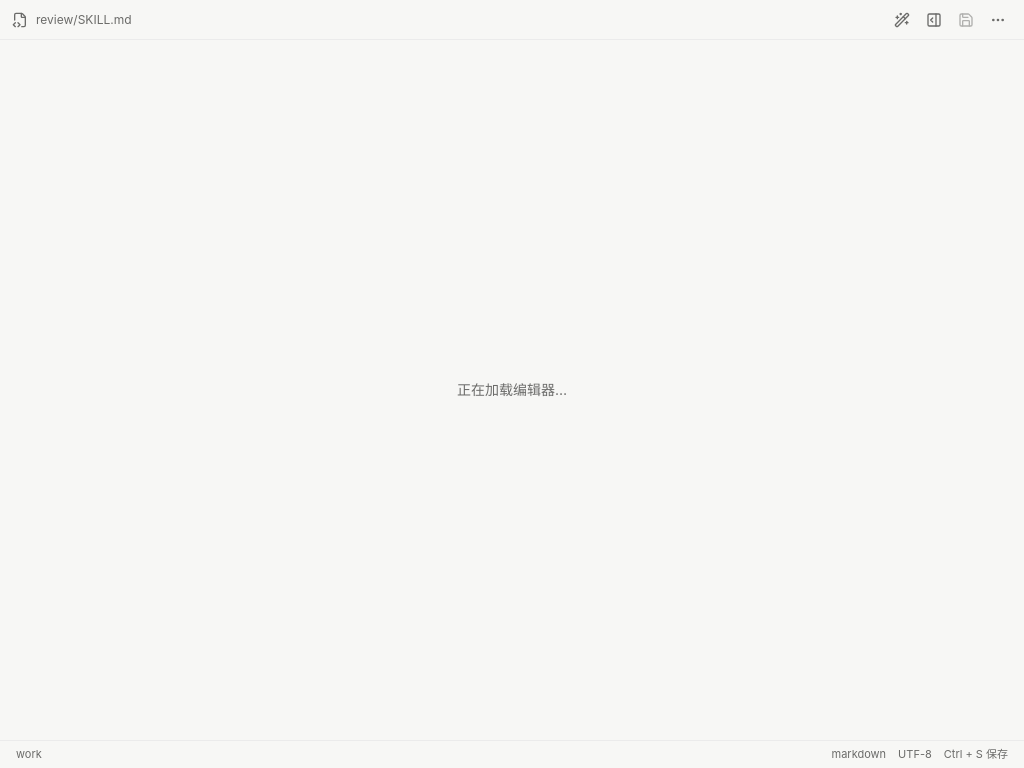
Scenario: offers API settings without sending a request before configuration
What coordinates should you click on to do the following:
click the button named "AI 帮写"
I would click on:
 (902, 20)
Its box is [888, 6, 916, 34].
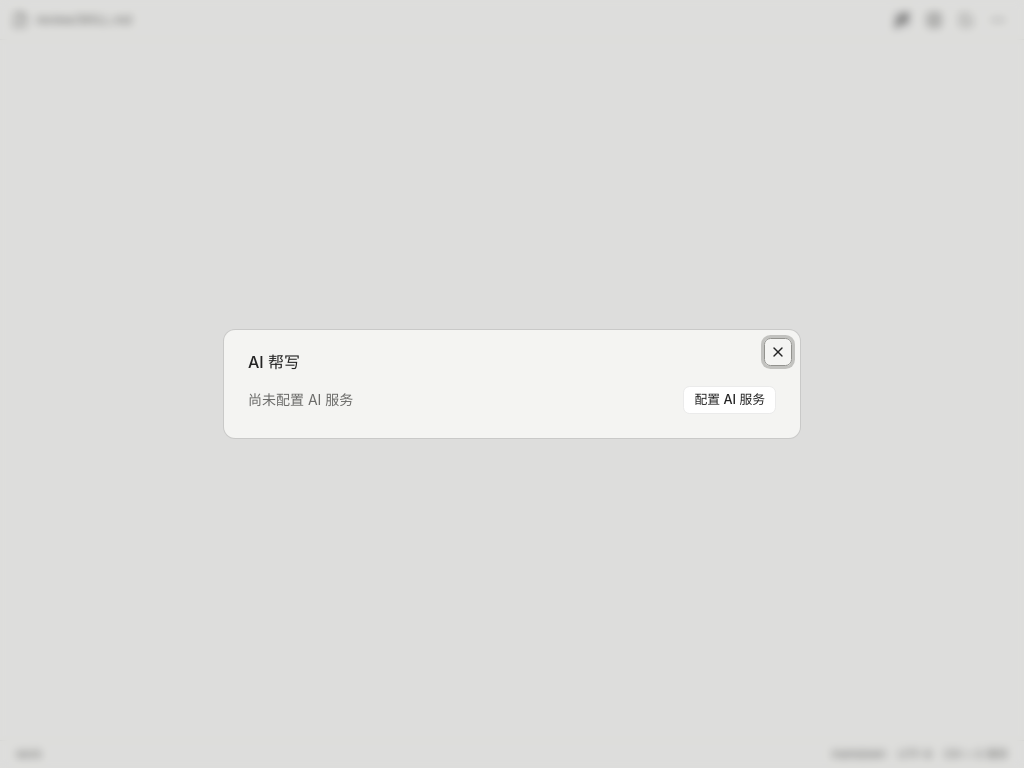
What coordinates should you click on to do the following:
click the button "配置 AI 服务"
I would click on:
 (730, 400)
Its box is [683, 386, 776, 414].
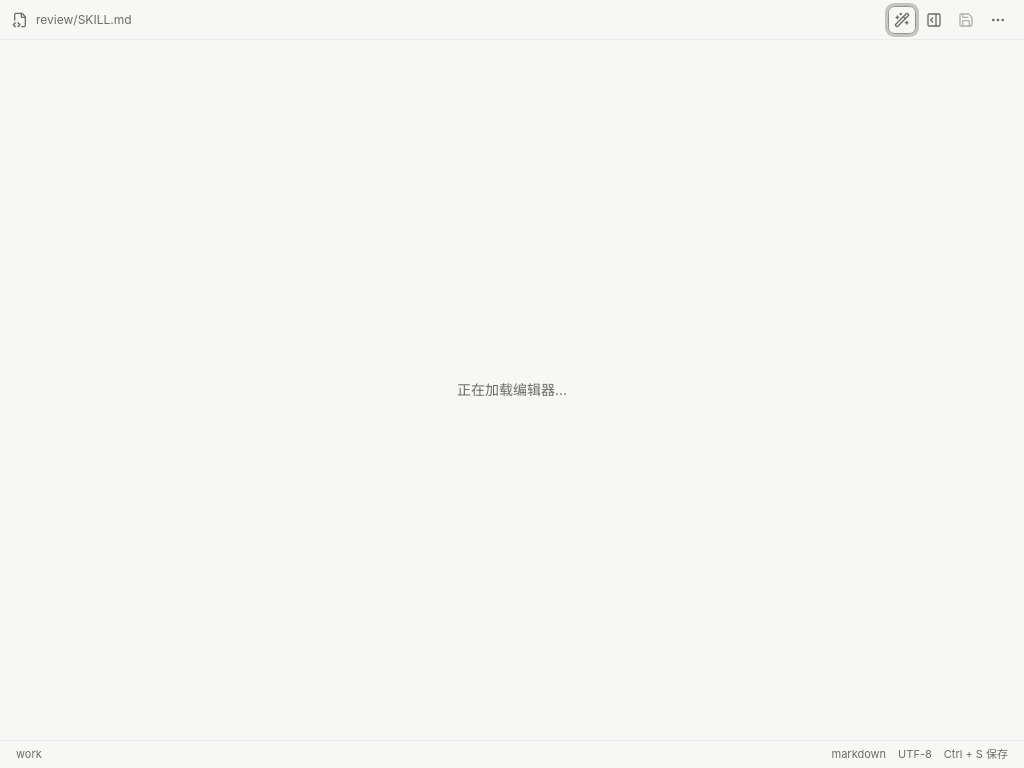
Expected: the dialog is gone
